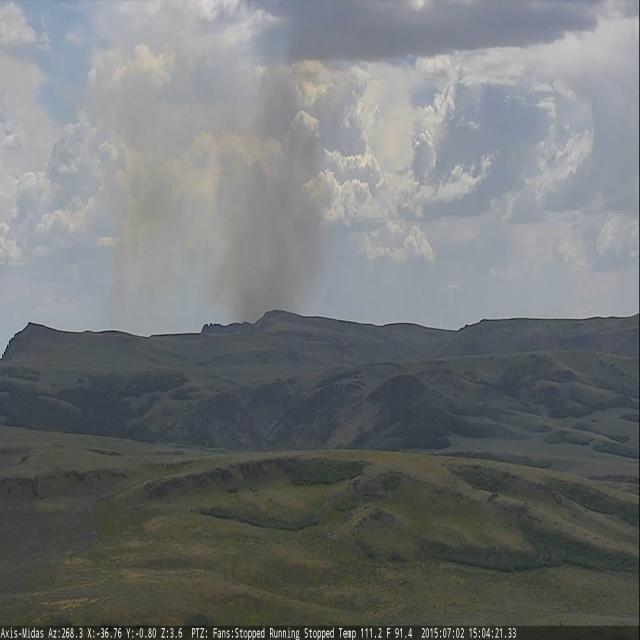smoke: (212, 84, 319, 323)
